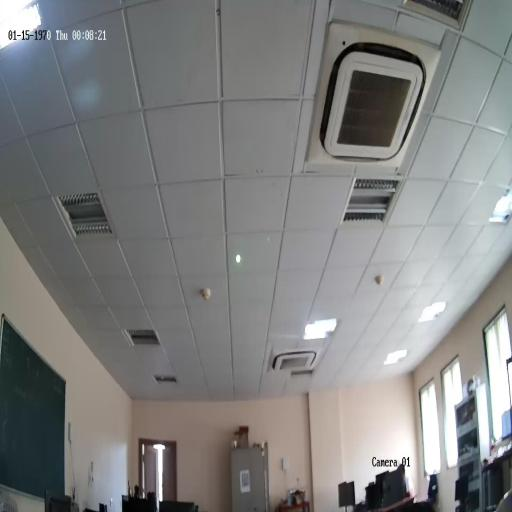laser: (236, 252, 241, 264)
